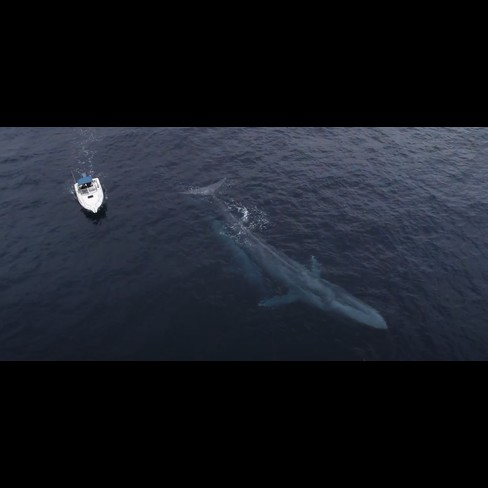bluewhale: (178, 172, 393, 339), (183, 180, 263, 294)
